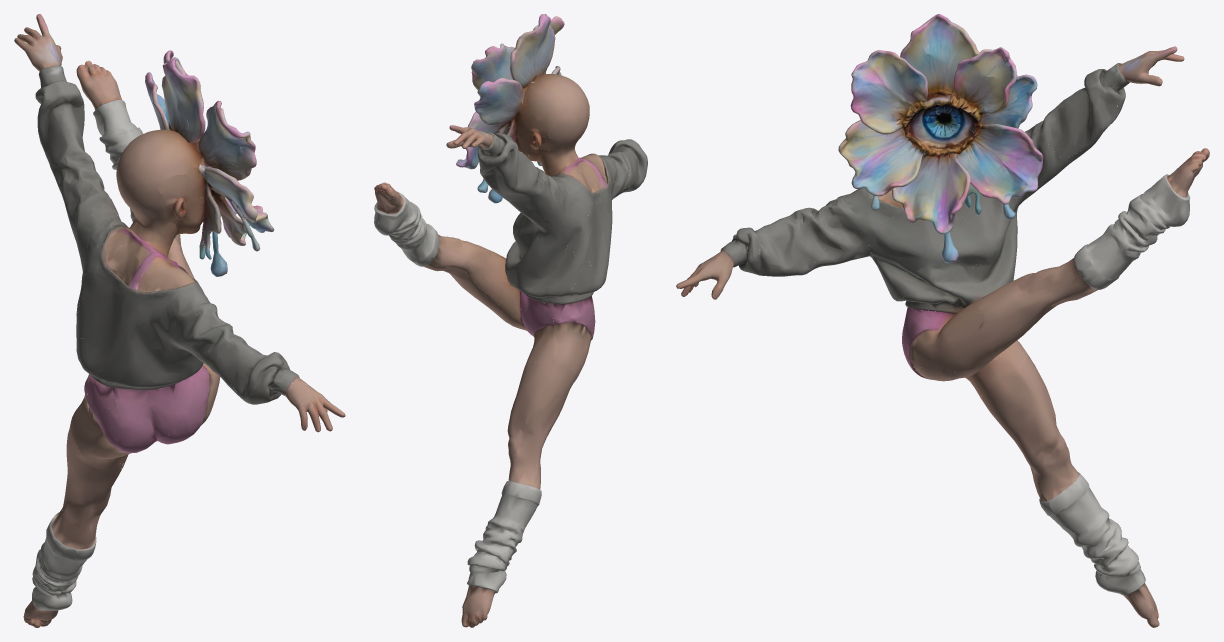
The model's file is famer.glb.
3 renders of one model, left to right at view 1: azimuth 30°, elevation 25°; view 2: azimuth 150°, elevation 25°; view 3: azimuth 270°, elevation 25°, orthographic. The views are drawn at different scales.
Visible parts, largest first — view 1: tripo_node_e4ea0792-4269-41e8-ba98-69027b8d0b5e; view 2: tripo_node_e4ea0792-4269-41e8-ba98-69027b8d0b5e; view 3: tripo_node_e4ea0792-4269-41e8-ba98-69027b8d0b5e.
Part boxes in pixels (box(x1,y1,x2,y2)): tripo_node_e4ea0792-4269-41e8-ba98-69027b8d0b5e: box(14, 14, 345, 627); tripo_node_e4ea0792-4269-41e8-ba98-69027b8d0b5e: box(374, 14, 647, 627); tripo_node_e4ea0792-4269-41e8-ba98-69027b8d0b5e: box(676, 14, 1209, 627).
Bounding box in the file's own units: 0.2631 × 0.9999 × 0.7779.
Materials: 1 (1 with a texture image).
